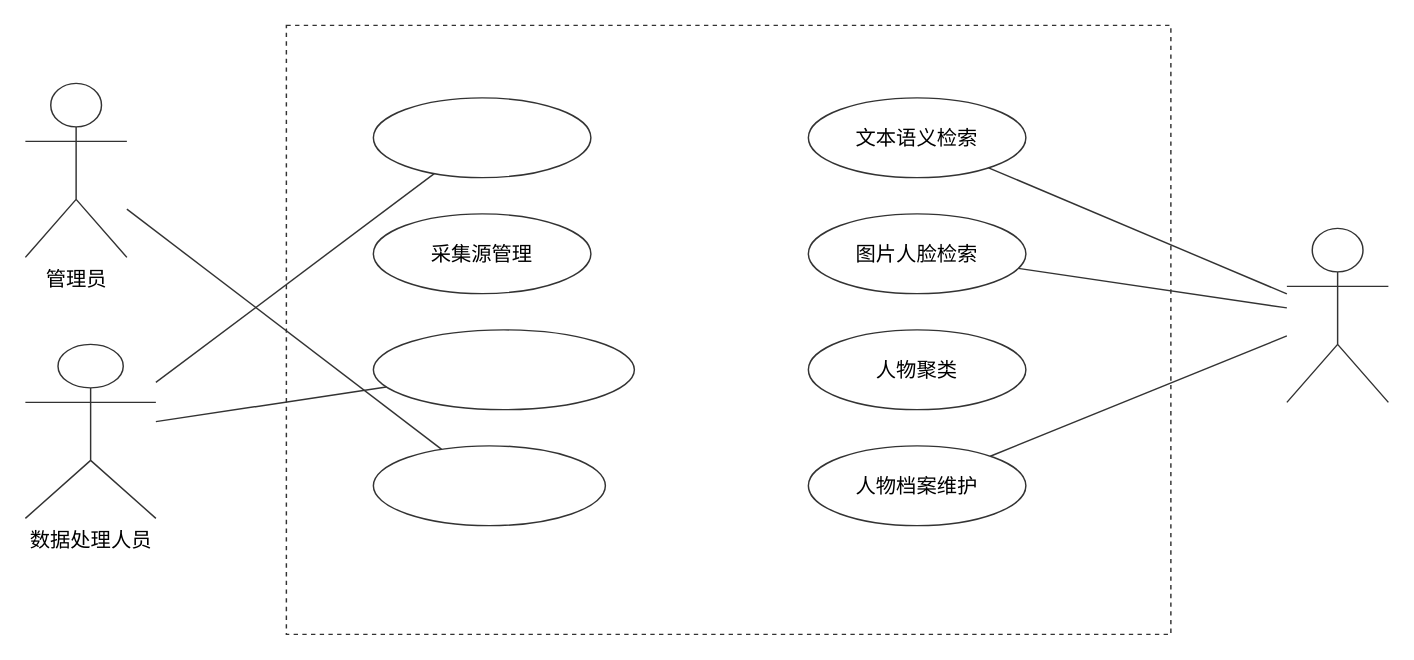
Some shapes in this 1414 by 660 pixel diagram are drawn without their labels. The shapes that lost their labels are listed below. From the top down, each one's box as (x1, y1, x2, y2) in pixels, then its label:
(372, 96, 591, 178): 提交采集任务
(1285, 227, 1388, 402): 检索用户
(372, 328, 634, 410): 人脸检测与质量过滤
(372, 444, 605, 526): 系统配置与维护
